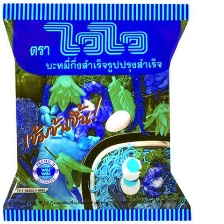snack: (0, 0, 197, 224)
